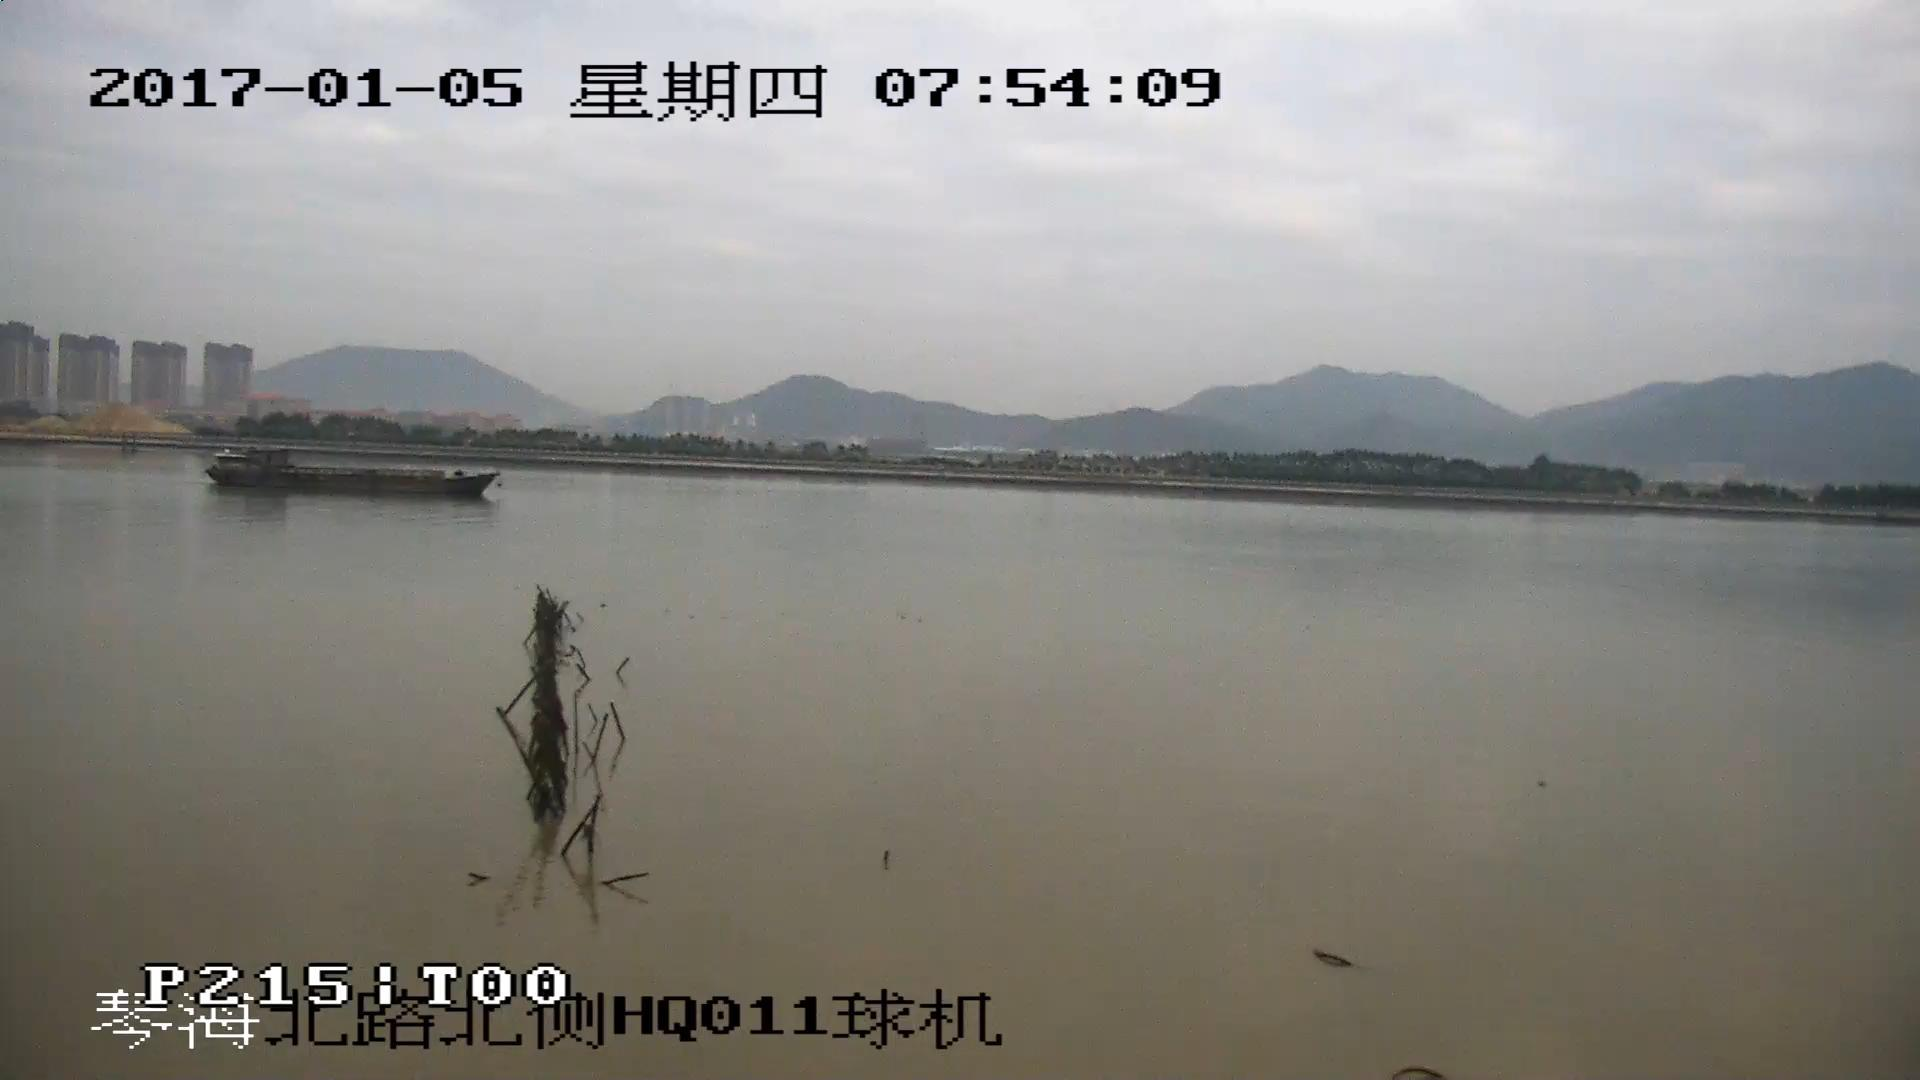Ship: (207, 448, 498, 496)
